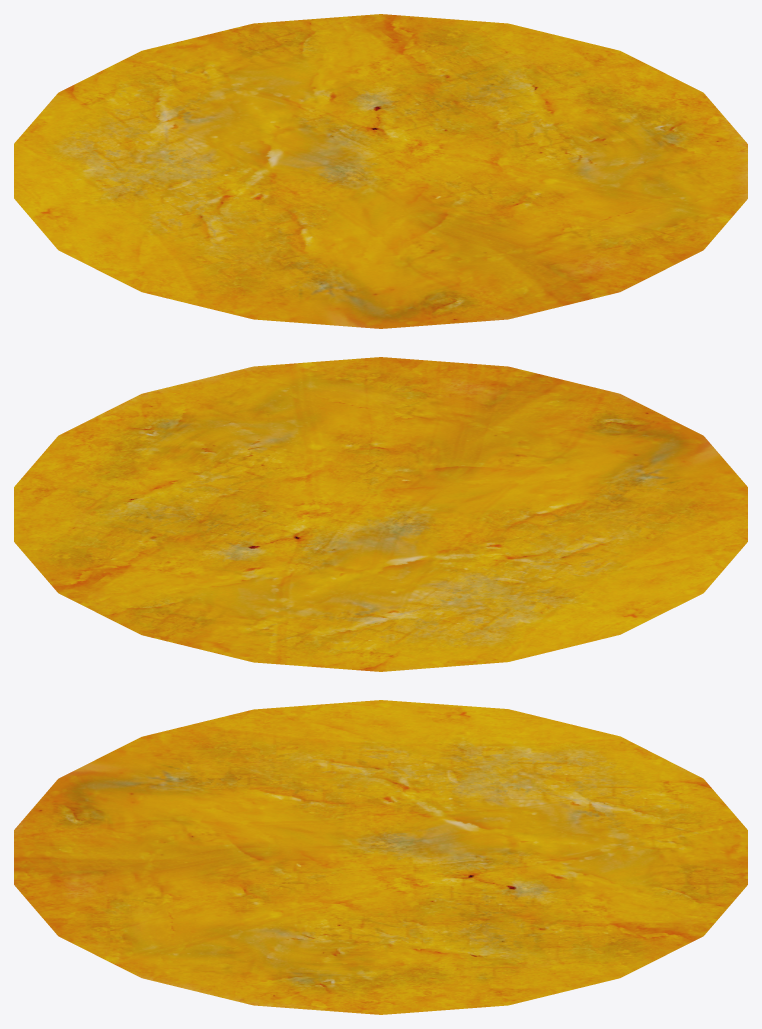
File: Cheese.FBX
3 views of the same model, one above another, from view 1: azimuth 30°, elevation 25°; view 2: azimuth 150°, elevation 25°; view 3: azimuth 270°, elevation 25° (orthographic).
Visible parts, largest first — view 1: Cylinder002; view 2: Cylinder002; view 3: Cylinder002.
Part boxes in pixels (x1,y1,x2,y2): Cylinder002: (14,14,747,328); Cylinder002: (14,357,747,671); Cylinder002: (14,700,747,1014).
Size of the model in its own units: 392 by 0.2272 by 386.
1 material, 1 textured.
